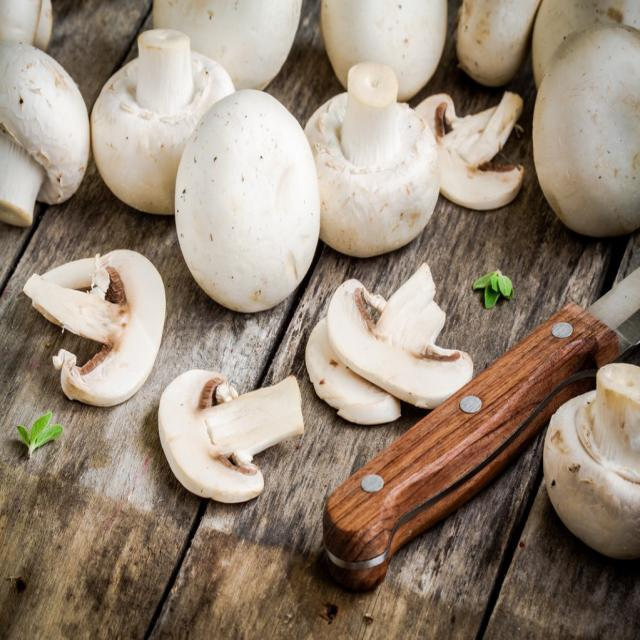Agaricus bisporus: (177, 89, 321, 306), (93, 27, 242, 215), (304, 64, 440, 258), (28, 244, 166, 409), (535, 35, 640, 235), (158, 372, 306, 501), (548, 367, 640, 553), (0, 42, 90, 228)
